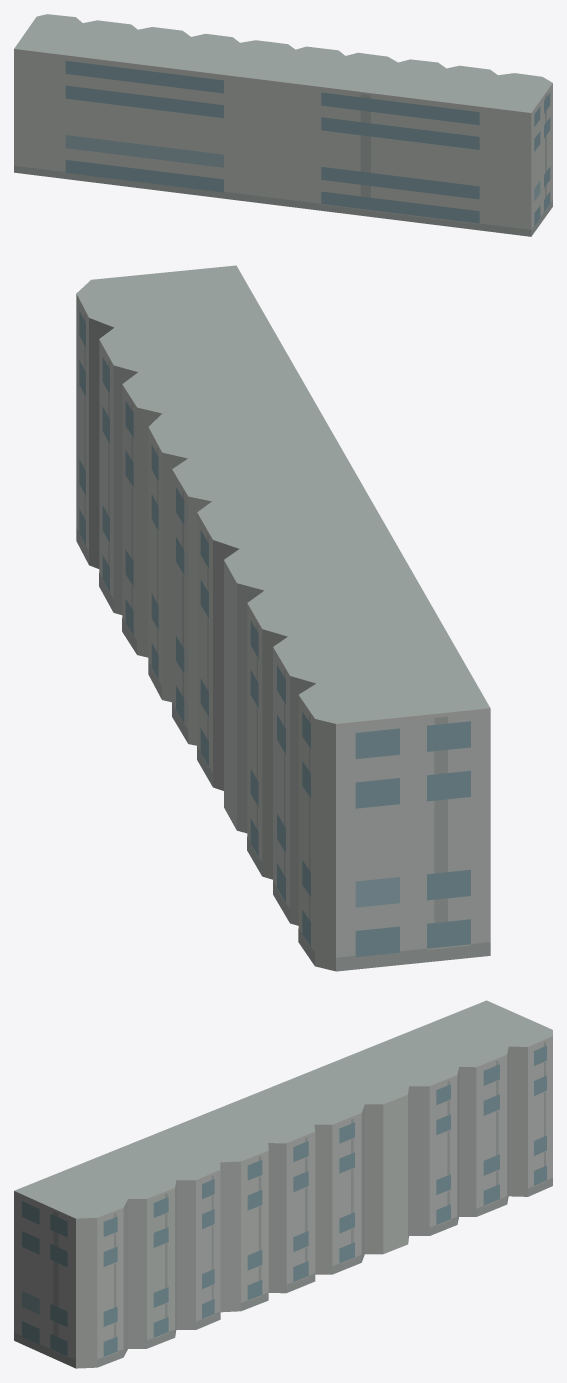
Rendered from survey-upis-32782696.glb.
3 renders of one model, top to bottom at view 1: azimuth 30°, elevation 25°; view 2: azimuth 150°, elevation 25°; view 3: azimuth 270°, elevation 25°, orthographic. The views are drawn at different scales.
Visible parts, largest first — view 1: survey-upis-32782696.tmp; view 2: survey-upis-32782696.tmp; view 3: survey-upis-32782696.tmp.
Part boxes in pixels (x1=…): survey-upis-32782696.tmp: x1=14, y1=14, x2=552, y2=236; survey-upis-32782696.tmp: x1=76, y1=265, x2=490, y2=971; survey-upis-32782696.tmp: x1=14, y1=1000, x2=552, y2=1368.
Size of the model in its own units: 47.63 by 15.25 by 49.7.
